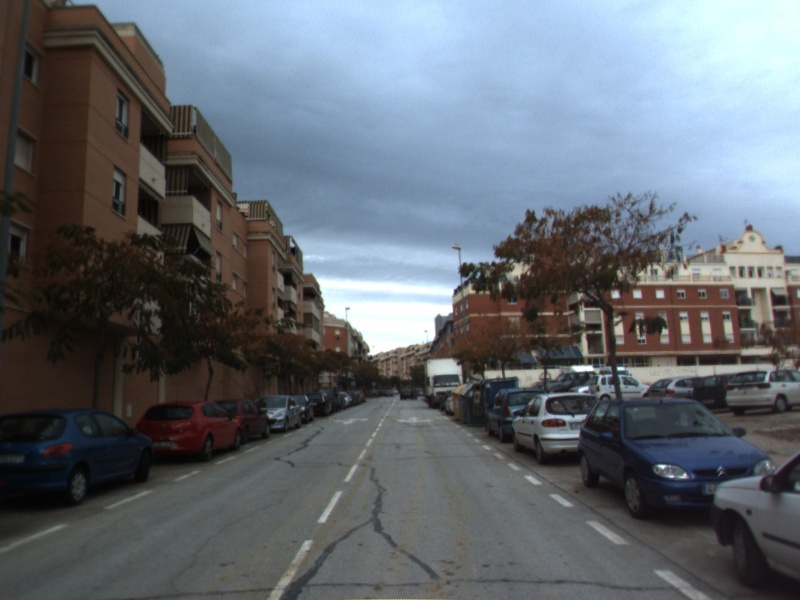STRAIGHT_LEFT_RIGHT: (394, 414, 437, 425)
